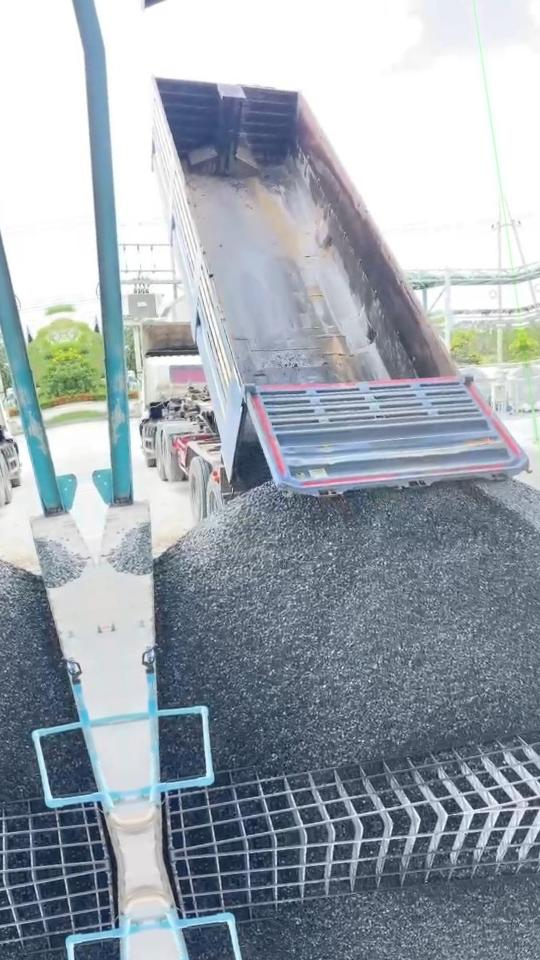gravel: (154, 484, 540, 771), (479, 479, 540, 538), (104, 522, 151, 574), (161, 719, 202, 775)
